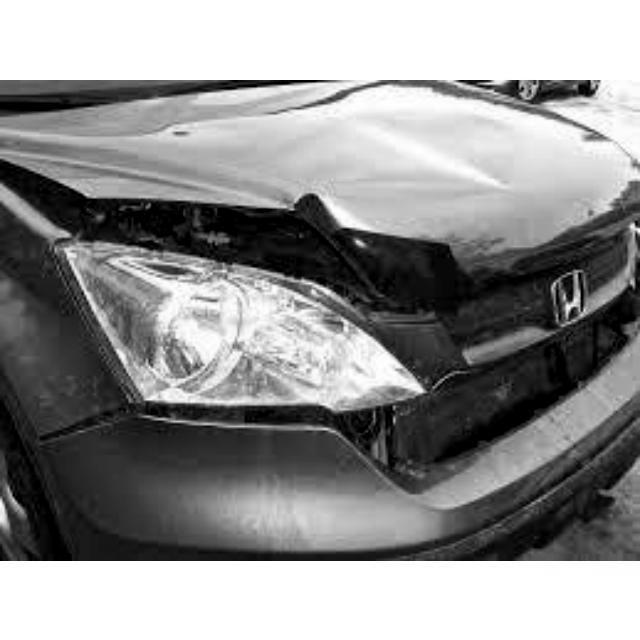bonnet-dent: (48, 100, 519, 277)
